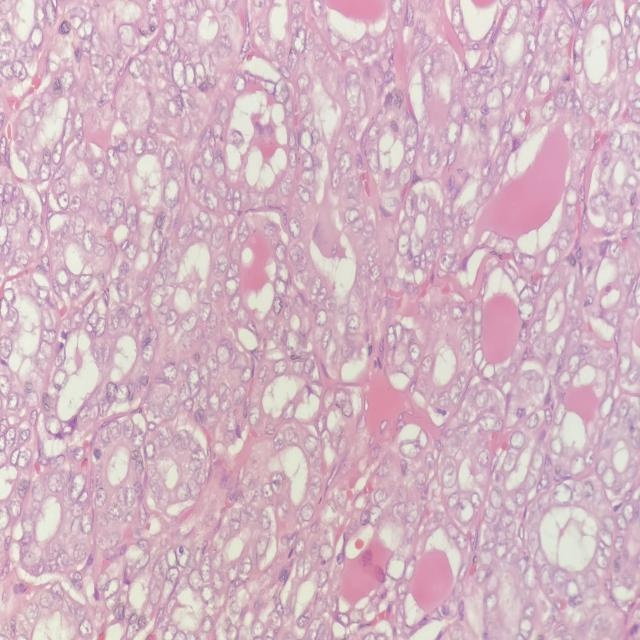TC: (390, 428, 428, 469), (450, 489, 479, 534), (268, 69, 296, 115), (532, 91, 564, 131), (281, 236, 312, 277), (155, 172, 183, 215), (463, 381, 494, 419), (133, 333, 162, 373), (246, 529, 279, 563), (298, 426, 326, 465), (358, 141, 385, 179), (103, 190, 129, 227), (390, 225, 415, 263), (293, 118, 318, 155), (541, 234, 564, 272), (218, 270, 243, 304), (151, 475, 173, 513), (213, 333, 232, 376), (507, 419, 530, 454), (264, 467, 286, 503), (184, 162, 206, 193), (415, 354, 437, 382)
